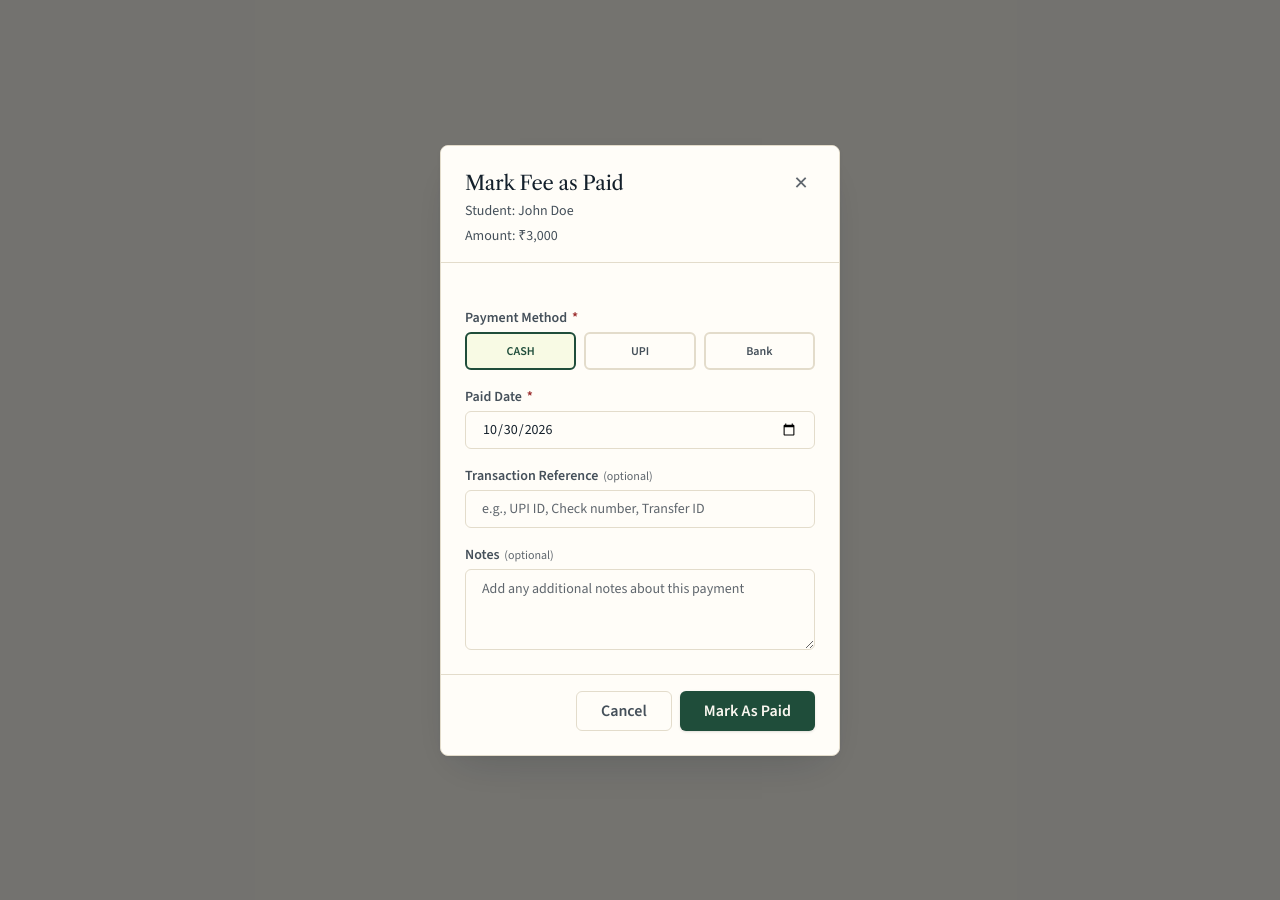
MarkPaidModal › should disable submit button when submitting
This screenshot has width=1280, height=900.
Step 1. Click the button "Mark as Paid" → (747, 710), box [680,690,815,730]
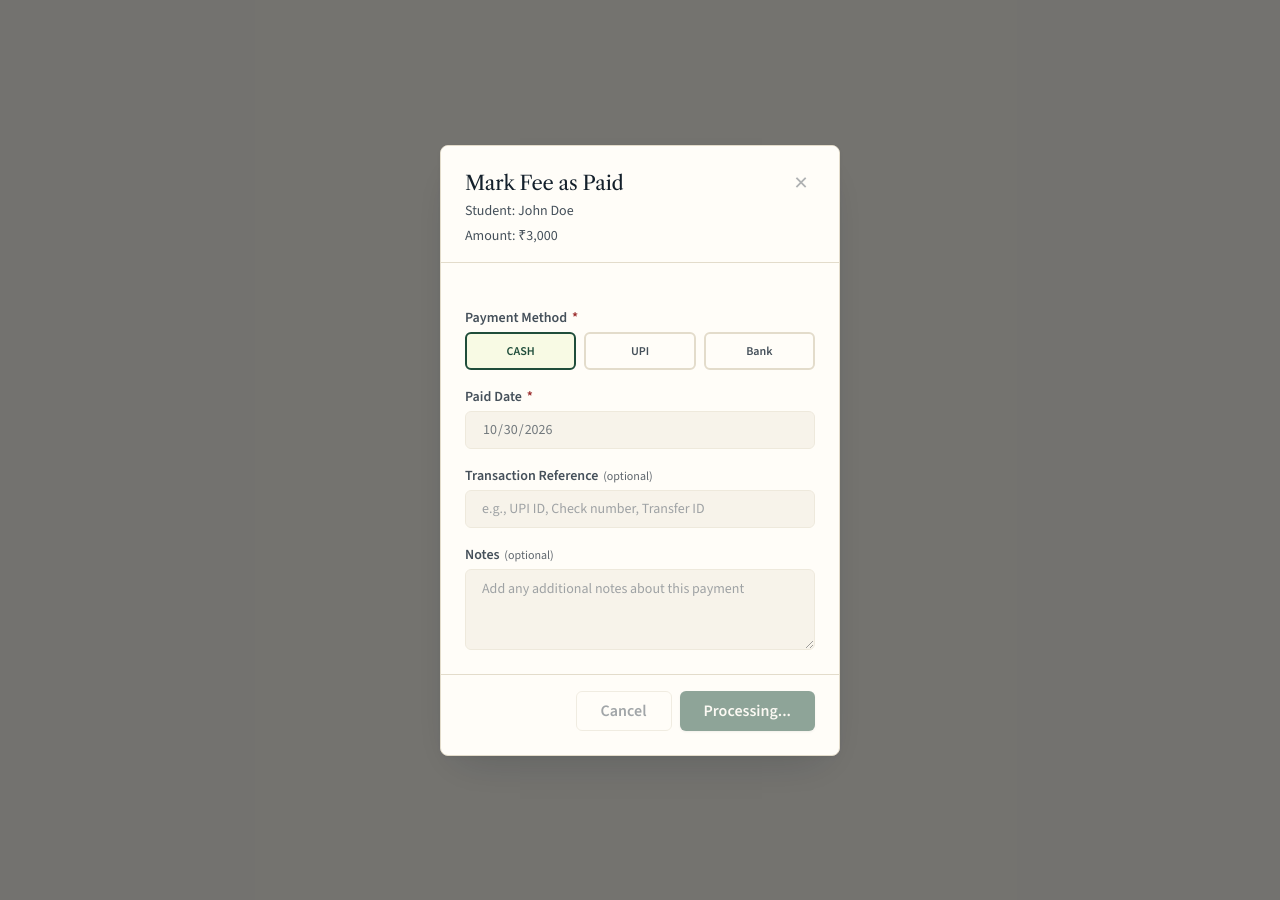
Expected: the button "Mark as Paid" is disabled, [680,690,815,730]
